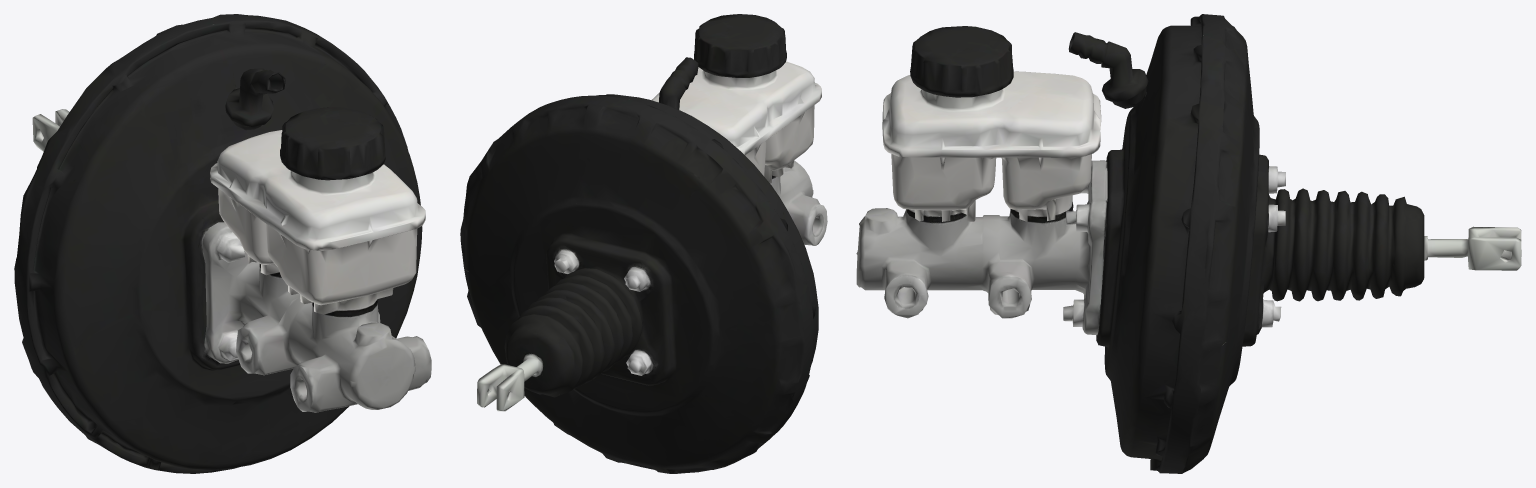
File: power-brake-booster.glb
3 renders of one model, left to right at view 1: azimuth 30°, elevation 25°; view 2: azimuth 150°, elevation 25°; view 3: azimuth 270°, elevation 25°, orthographic. The views are drawn at different scales.
Parts seen in each view (by area): view 1: tripo_node_2ebf2135-ca77-4ba8-a02a-9c8ea740ae25; view 2: tripo_node_2ebf2135-ca77-4ba8-a02a-9c8ea740ae25; view 3: tripo_node_2ebf2135-ca77-4ba8-a02a-9c8ea740ae25.
Part boxes in pixels (bbox=[...]): tripo_node_2ebf2135-ca77-4ba8-a02a-9c8ea740ae25: bbox=[14, 14, 431, 473]; tripo_node_2ebf2135-ca77-4ba8-a02a-9c8ea740ae25: bbox=[460, 14, 827, 473]; tripo_node_2ebf2135-ca77-4ba8-a02a-9c8ea740ae25: bbox=[856, 14, 1521, 473].
Bounding box in the file's own units: 0.6647 × 0.6973 × 1.
Materials: 1 (1 with a texture image).
